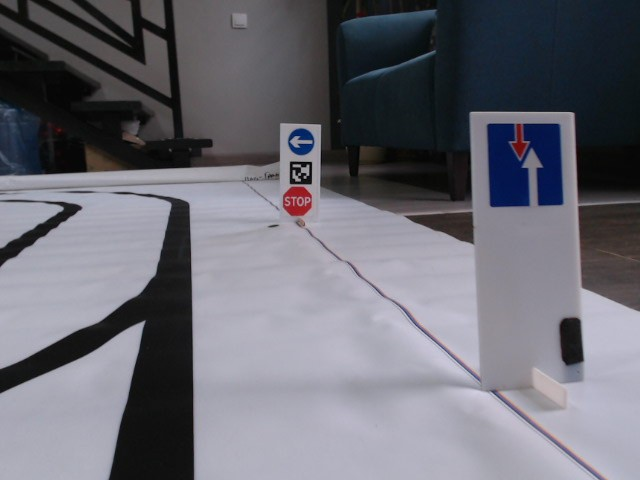Stop: (282, 186, 313, 217)
priority_movement: (485, 122, 565, 209)
